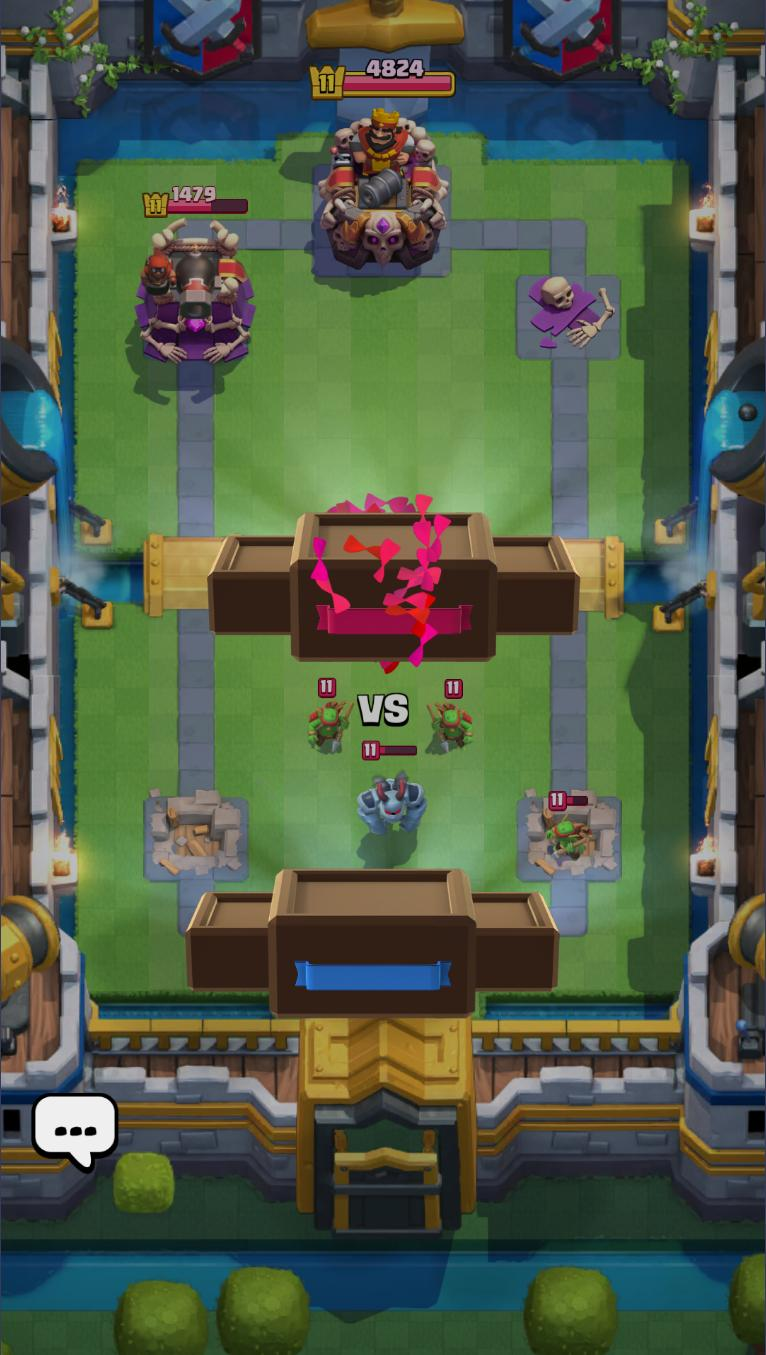Cannoneer: (135, 237, 217, 320)
EnemyTower: (131, 212, 257, 365)
EnemyTowerBrocken: (511, 272, 628, 364)
KingTower: (312, 98, 452, 275)
KingTowerHP: (306, 56, 459, 102)
MegaMinion: (356, 742, 429, 839)
MyPrincessTowerBrocken: (513, 791, 627, 887), (140, 793, 254, 886)
SpearGoblin: (426, 679, 480, 755), (301, 677, 354, 753), (544, 792, 595, 867)
TowerPrincessHP: (141, 183, 254, 220)
